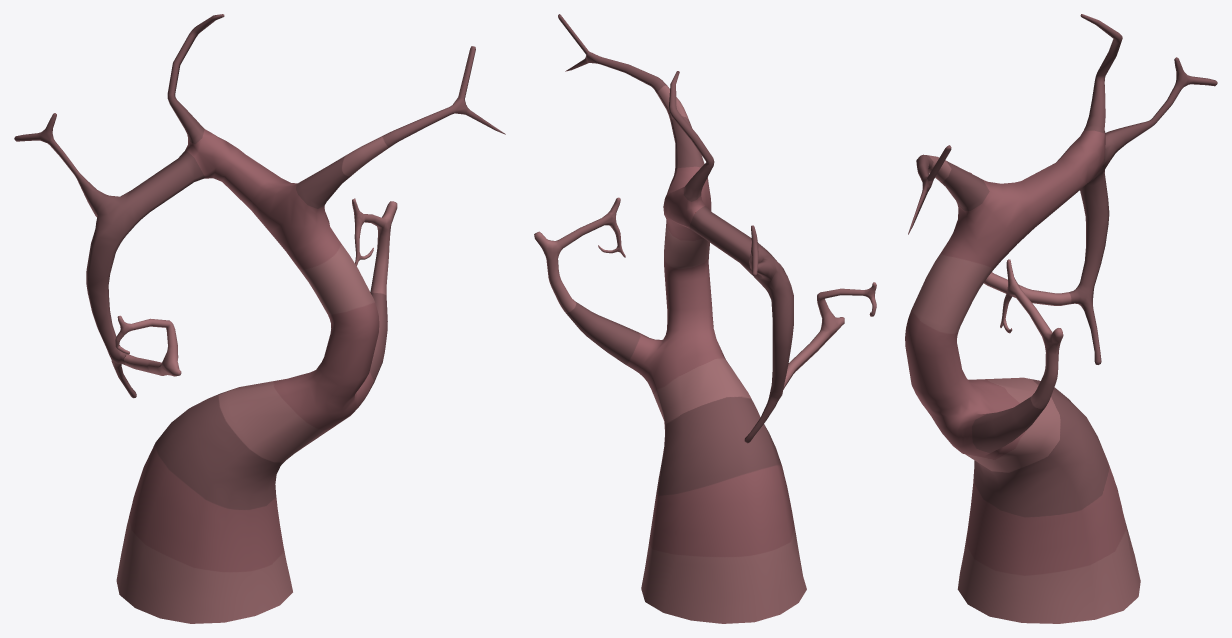
The model's file is Tree_Purple.glb.
The picture shows the model from 3 angles, left to right: view 1: azimuth 30°, elevation 25°; view 2: azimuth 150°, elevation 25°; view 3: azimuth 270°, elevation 25°; orthographic projection. The views are drawn at different scales.
Parts seen in each view (by area): view 1: tree_02 02_tree 02_02_0; view 2: tree_02 02_tree 02_02_0; view 3: tree_02 02_tree 02_02_0.
Part boxes in pixels (<box>): tree_02 02_tree 02_02_0: <box>14,14,505,623</box>; tree_02 02_tree 02_02_0: <box>534,14,876,623</box>; tree_02 02_tree 02_02_0: <box>905,14,1217,623</box>.
Size of the model in its own units: 0.2083 by 0.3056 by 0.1471.
1 material, 1 textured.
